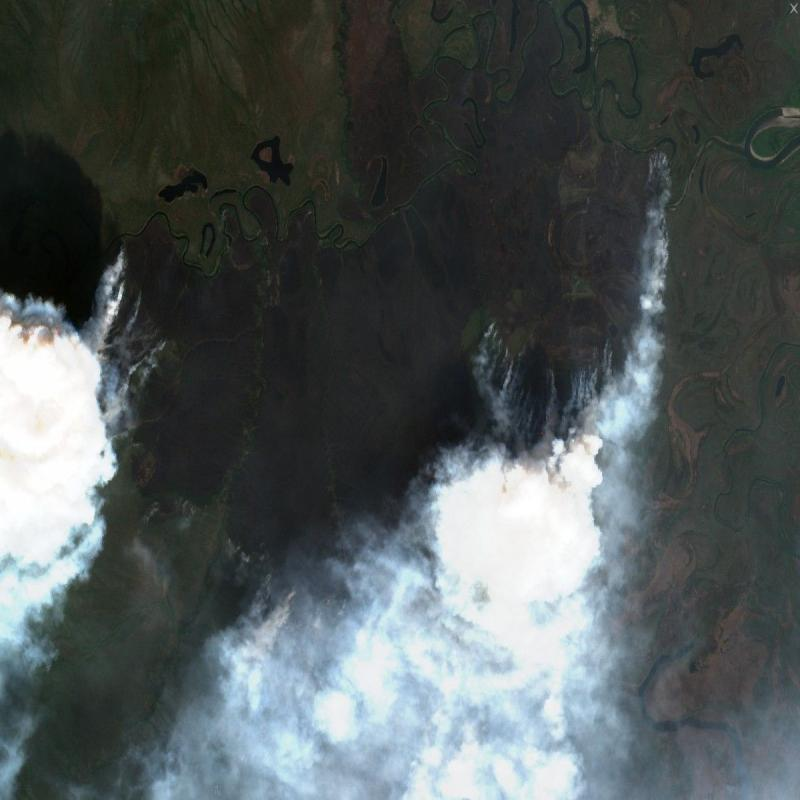fire: (56, 132, 682, 738)
